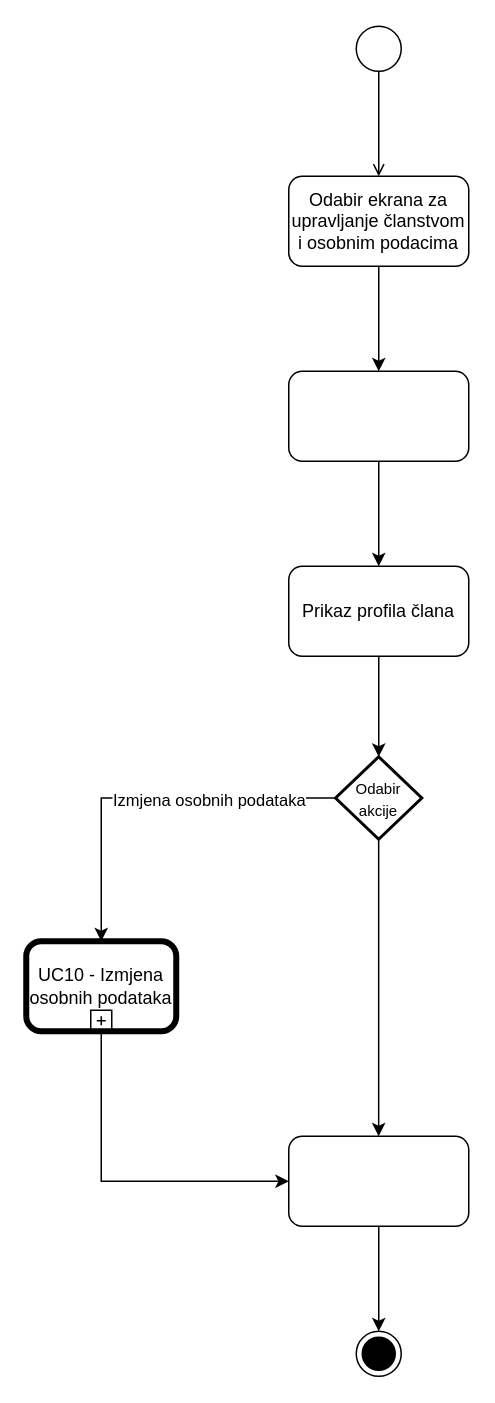
The diagram is 495 pixels wide and 1403 high, and some of its shapes have lost their labels. The centre of each missing label's shape, as x and y in pixels:
"Dohvat podataka baze podataka" belongs at pixel 378 415.
"Završetak upravljanja članstvom i osobnim podacima" belongs at pixel 378 1180.
